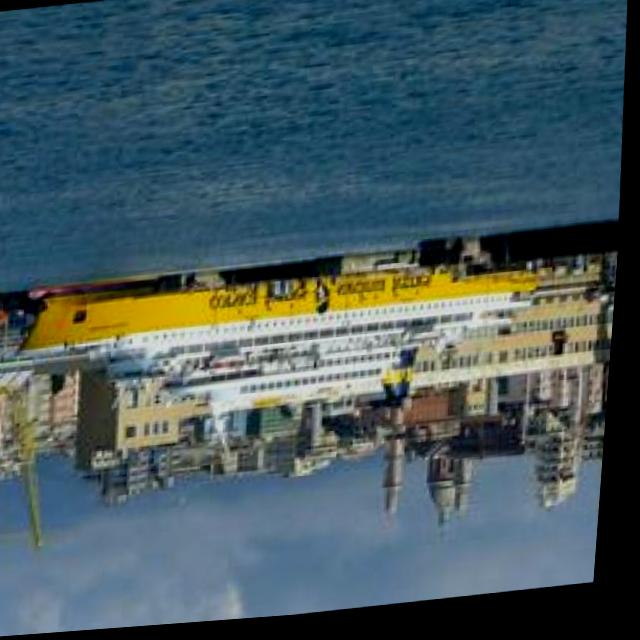ship2: (23, 250, 545, 467)
